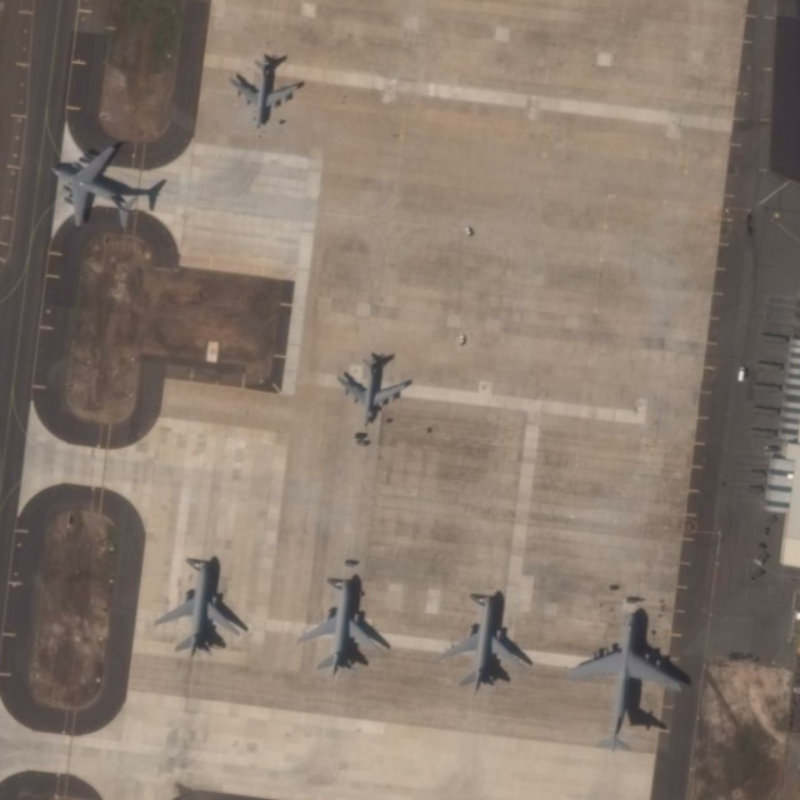A14: (334, 349, 414, 428), (226, 57, 304, 131)
A18: (292, 575, 390, 678), (150, 557, 243, 661), (434, 592, 525, 696)
A3: (47, 142, 142, 235)
A4: (566, 604, 686, 756)
